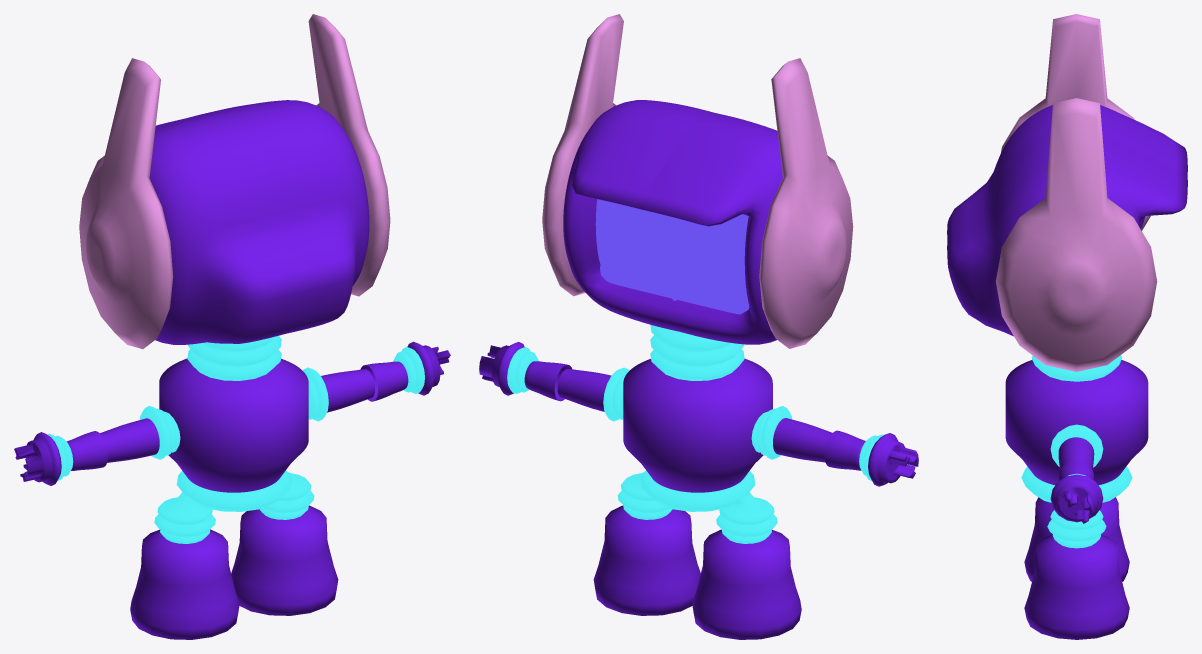
3 views of the same model, side by side, from view 1: azimuth 30°, elevation 25°; view 2: azimuth 150°, elevation 25°; view 3: azimuth 270°, elevation 25° (orthographic). The views are drawn at different scales.
Visible parts, largest first — view 1: head, ears, body, legR, legL, bowl, neck, handsRUp, fingersR, handsLUp, handsRDwn, handsLDwn (+4 smaller); view 2: head, ears, body, screen, legR, legL, bowl, neck, fingersR, handsRUp, handsLUp, handsRDwn (+5 smaller); view 3: ears, head, body, legL, bowl, legR, fingersL, neck, shoulderL, handsLUp, handsLDwn.
Part boxes in pixels (bbox=[...]): head: bbox=[149, 100, 369, 344]; ears: bbox=[79, 14, 390, 349]; body: bbox=[159, 358, 308, 492]; legR: bbox=[130, 529, 239, 639]; legL: bbox=[231, 505, 338, 615]; bowl: bbox=[154, 470, 314, 543]; neck: bbox=[187, 335, 281, 380]; handsRUp: bbox=[100, 418, 159, 462]; fingersR: bbox=[14, 432, 61, 485]; handsLUp: bbox=[321, 369, 375, 412]; handsRDwn: bbox=[66, 431, 107, 470]; handsLDwn: bbox=[360, 361, 408, 401]; head: bbox=[563, 100, 782, 344]; ears: bbox=[542, 14, 853, 348]; body: bbox=[623, 358, 772, 492]; screen: bbox=[595, 199, 749, 314]; legR: bbox=[692, 529, 801, 639]; legL: bbox=[593, 505, 700, 615]; bowl: bbox=[617, 470, 777, 543]; neck: bbox=[650, 324, 744, 380]; fingersR: bbox=[868, 433, 918, 486]; handsRUp: bbox=[773, 418, 832, 462]; handsLUp: bbox=[557, 368, 611, 411]; handsRDwn: bbox=[824, 430, 865, 470]; ears: bbox=[996, 14, 1157, 371]; head: bbox=[947, 105, 1187, 336]; body: bbox=[1005, 360, 1148, 485]; legL: bbox=[1024, 534, 1129, 639]; bowl: bbox=[1021, 466, 1132, 548]; legR: bbox=[1024, 497, 1129, 581]; fingersL: bbox=[1050, 474, 1103, 523]; neck: bbox=[1031, 355, 1122, 381]; shoulderL: bbox=[1050, 424, 1103, 467]; handsLUp: bbox=[1058, 437, 1094, 469]; handsLDwn: bbox=[1058, 461, 1094, 480].
Bounding box in the file's own units: 5.54 × 7.12 × 2.86.
